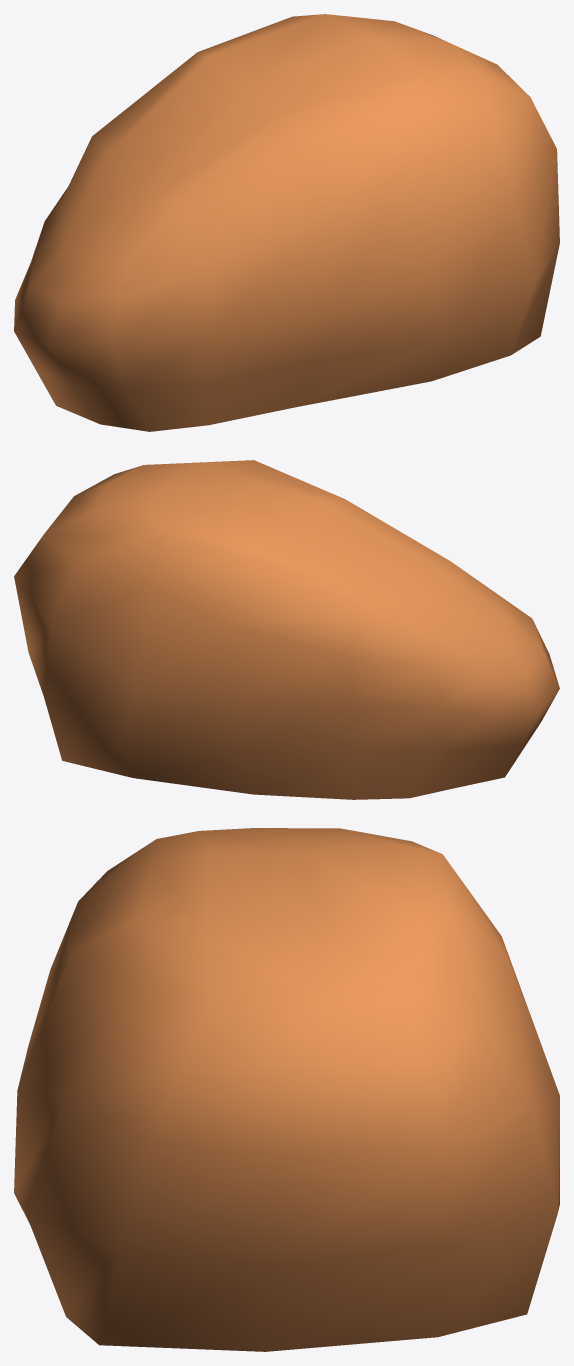
Rendered from Stone_02_C.fbx.
3 renders of one model, top to bottom at view 1: azimuth 30°, elevation 25°; view 2: azimuth 150°, elevation 25°; view 3: azimuth 270°, elevation 25°, orthographic. The views are drawn at different scales.
Parts seen in each view (by area): view 1: Stone_02_C; view 2: Stone_02_C; view 3: Stone_02_C.
Boxes of the visible parts, x1,y1,x2,y2 form: Stone_02_C: (14,14,559,431); Stone_02_C: (14,460,559,799); Stone_02_C: (14,828,559,1351).
Size of the model in its own units: 2774 by 1338 by 1811.
